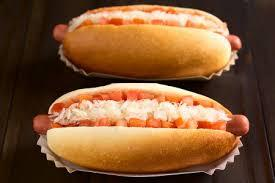Completos: (35, 79, 239, 178), (60, 6, 242, 82)
